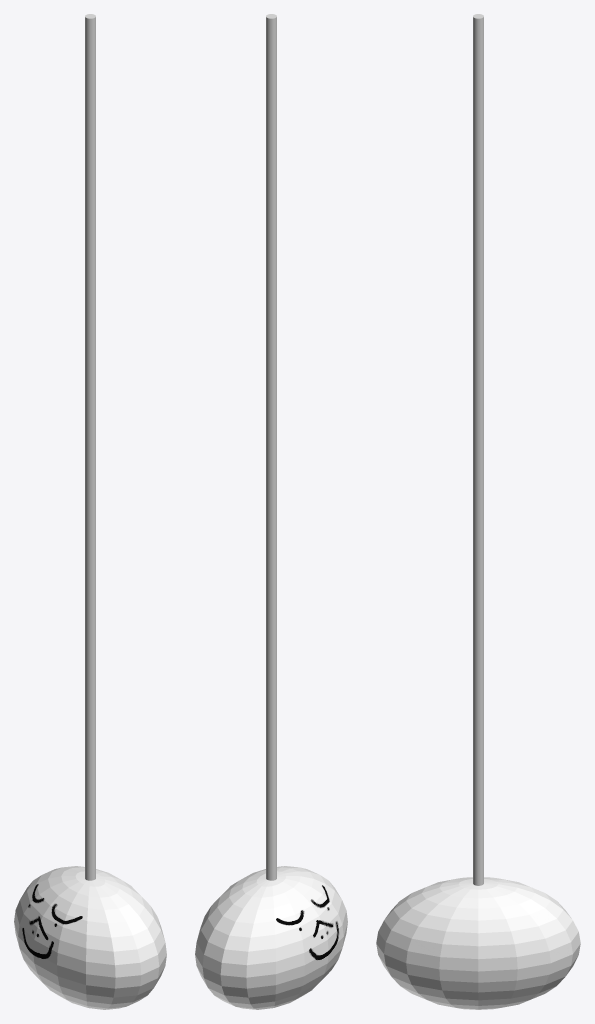
The model's file is Arm_unit.glb.
3 views of the same model, side by side, from view 1: azimuth 30°, elevation 25°; view 2: azimuth 150°, elevation 25°; view 3: azimuth 270°, elevation 25° (orthographic).
Parts seen in each view (by area): view 1: 球, 円柱; view 2: 球, 円柱; view 3: 球, 円柱.
Part boxes in pixels (x1=…): 球: x1=14, y1=866, x2=166, y2=1009; 円柱: x1=85, y1=14, x2=95, y2=880; 球: x1=195, y1=866, x2=347, y2=1009; 円柱: x1=266, y1=14, x2=276, y2=880; 球: x1=376, y1=877, x2=580, y2=1009; 円柱: x1=473, y1=14, x2=483, y2=885.
Bounding box in the file's own units: 1.3 × 10.65 × 2.
1 material, 1 textured.
